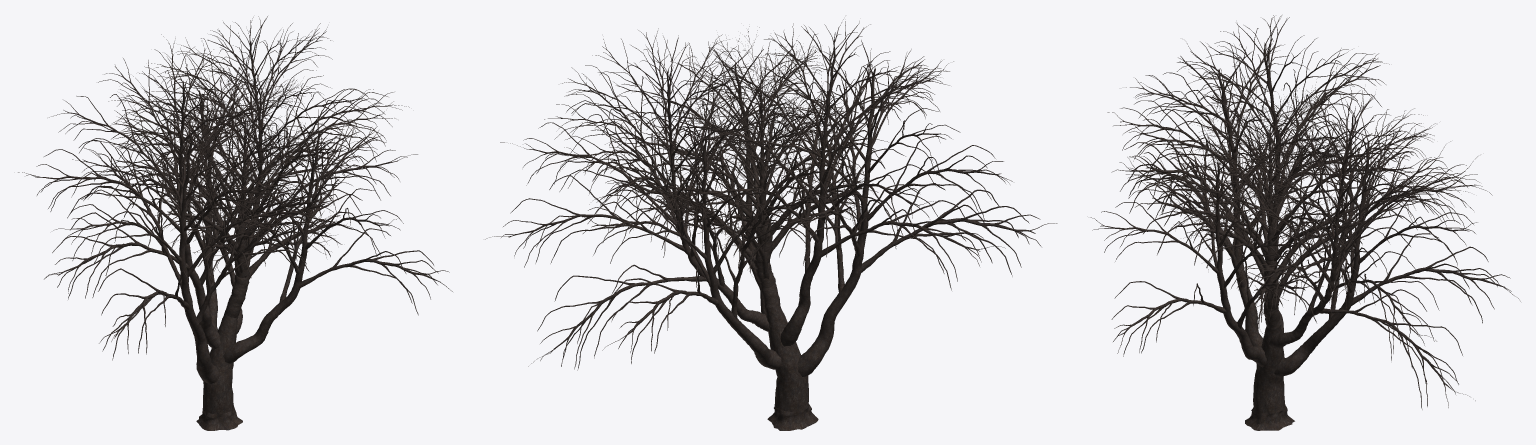
File: Bark01_4.fbx
The picture shows the model from 3 angles, left to right: view 1: azimuth 30°, elevation 25°; view 2: azimuth 150°, elevation 25°; view 3: azimuth 270°, elevation 25°; orthographic projection. The views are drawn at different scales.
Visible parts, largest first — view 1: Bark01_4; view 2: Bark01_4; view 3: Bark01_4.
Boxes of the visible parts, x1=… form: Bark01_4: x1=18, y1=16, x2=452, y2=430; Bark01_4: x1=485, y1=19, x2=1057, y2=430; Bark01_4: x1=1090, y1=15, x2=1520, y2=430.
Size of the model in its own units: 1029 by 896 by 920.
1 material, 1 textured.
